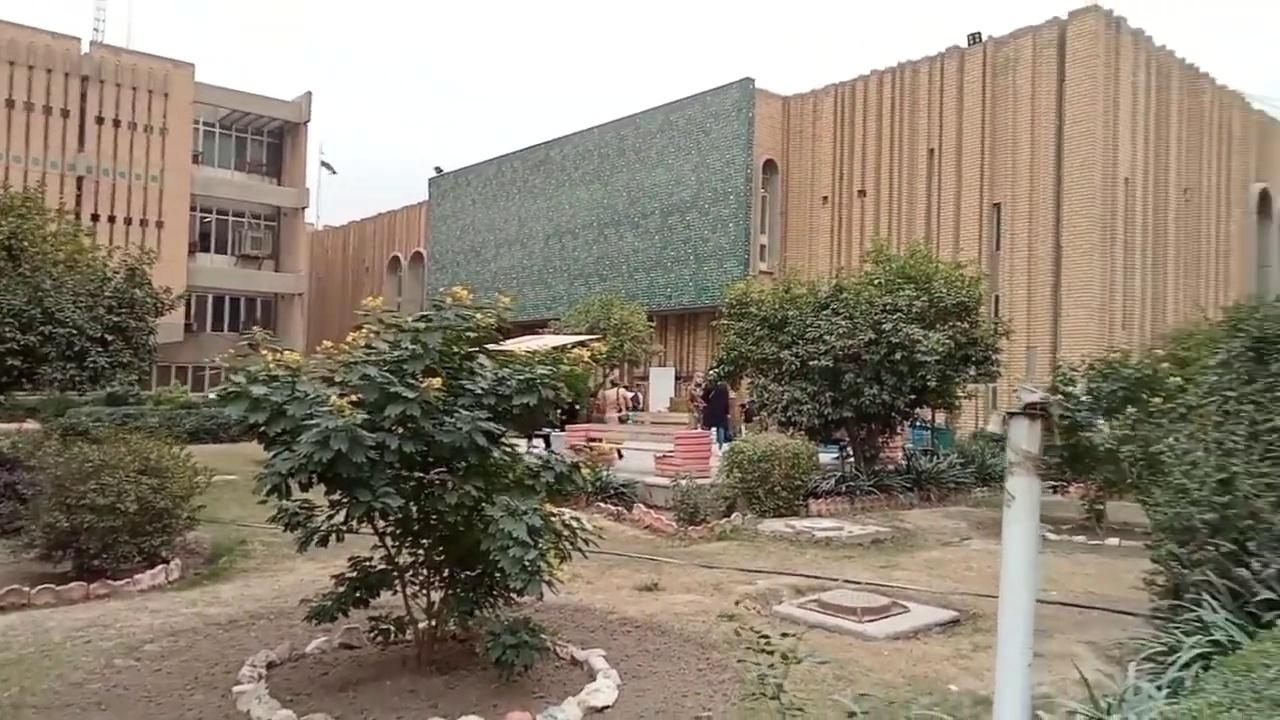person: (595, 377, 631, 460), (698, 370, 731, 449), (686, 370, 706, 430)
tree: (204, 282, 628, 674), (1044, 294, 1279, 704), (704, 235, 1012, 487), (0, 176, 186, 411), (13, 416, 214, 579), (555, 288, 665, 422), (710, 428, 821, 519)
